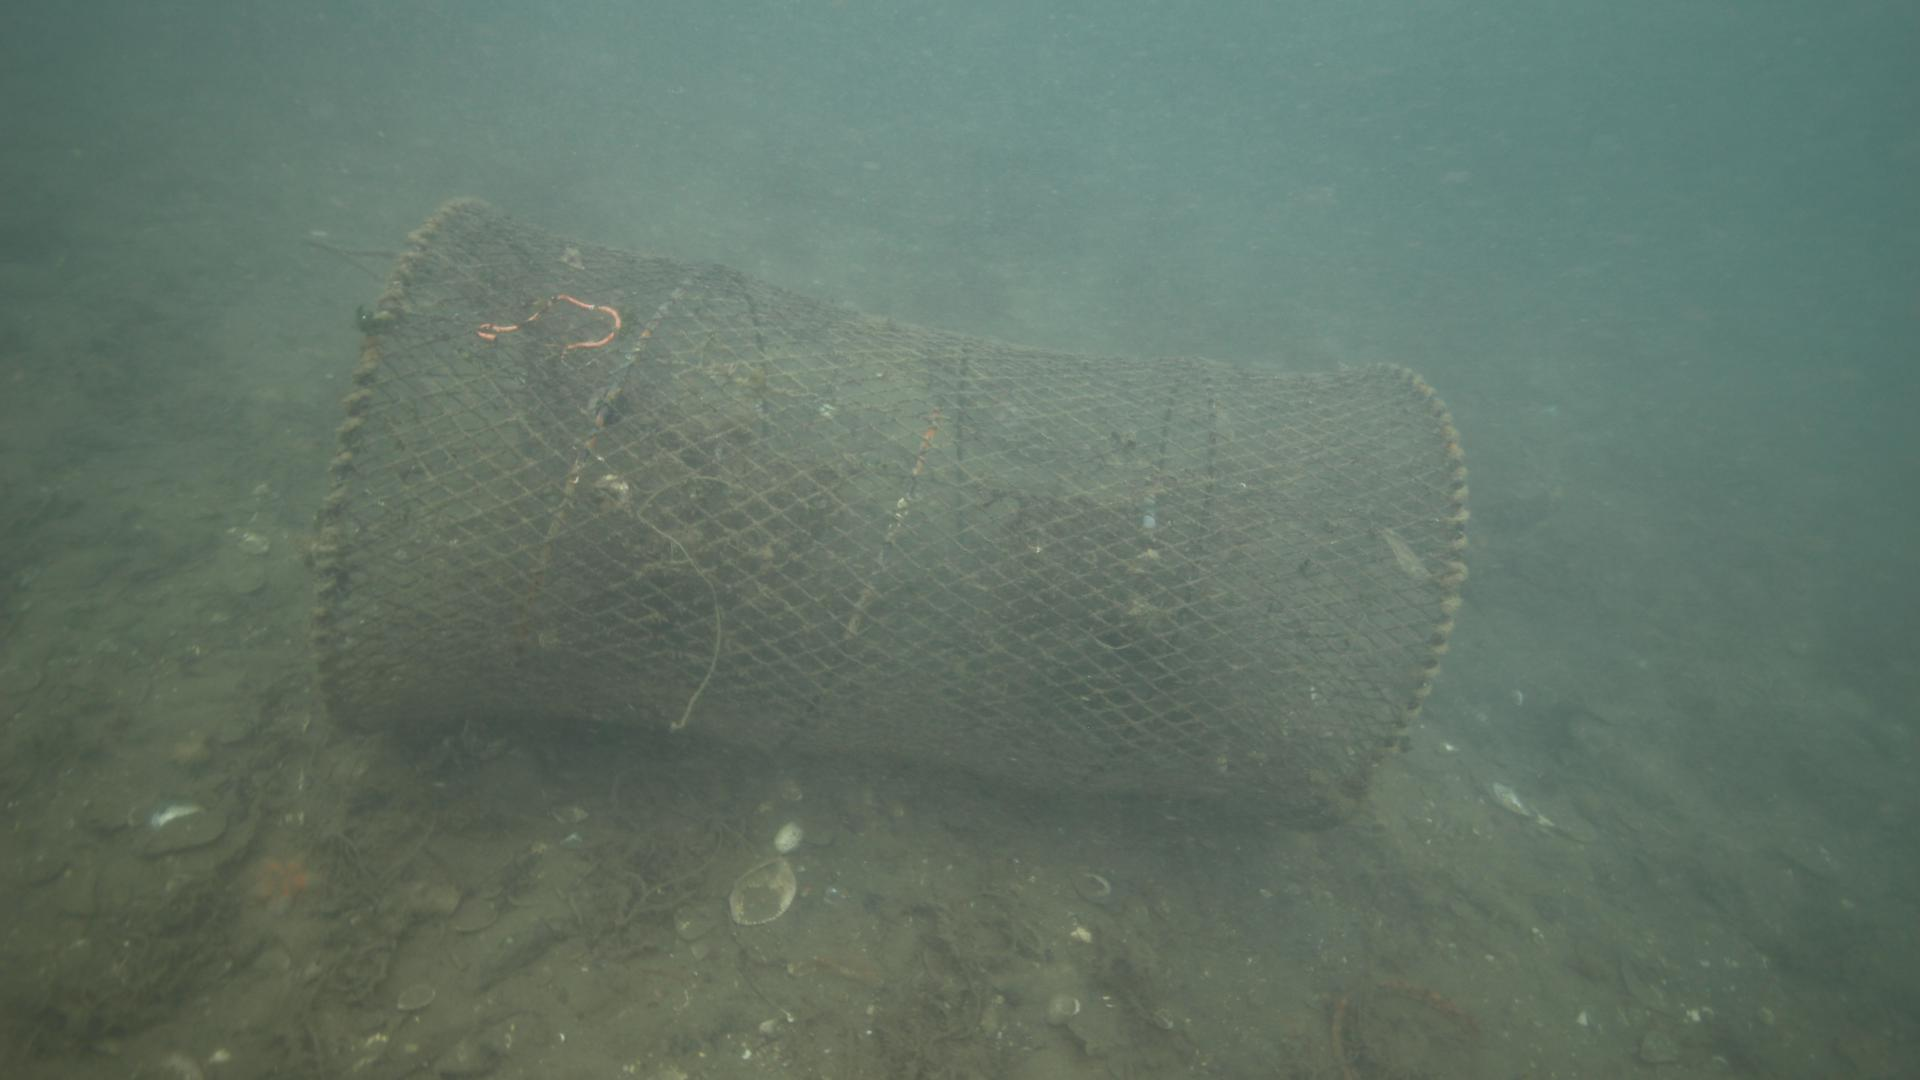spring fish trap: (306, 194, 1474, 829)
